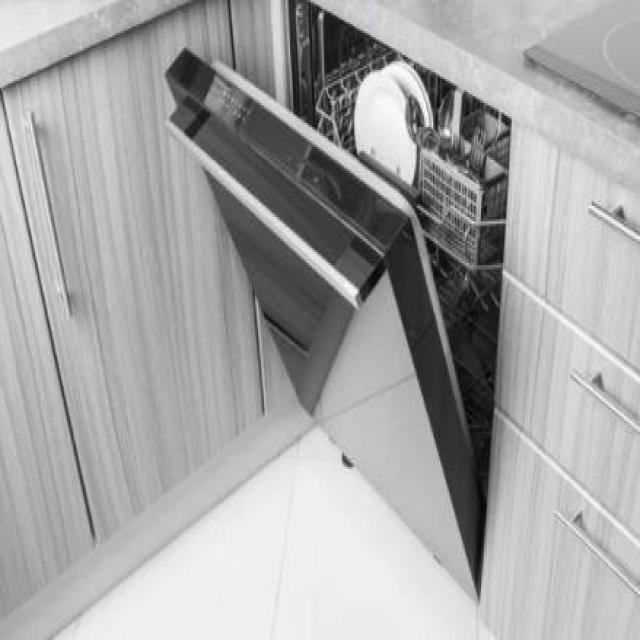dishwasher: (159, 0, 519, 620)
